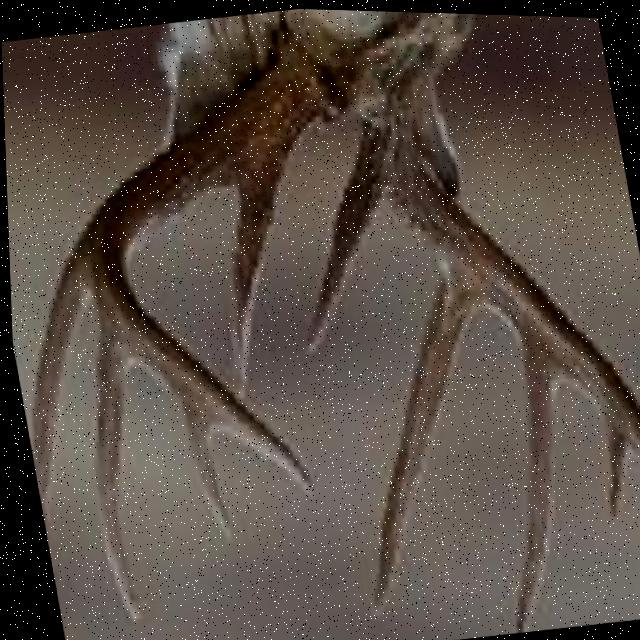L-F: (93, 8, 357, 498)
L-G1: (220, 157, 288, 396)
L-G2: (26, 216, 88, 595)
L-G3: (90, 310, 148, 622)
L-G4: (179, 397, 233, 546)
R-G1: (300, 143, 386, 357)
R-G2: (366, 250, 485, 614)
R-G3: (509, 331, 565, 630)
R-G4: (599, 407, 635, 520)
